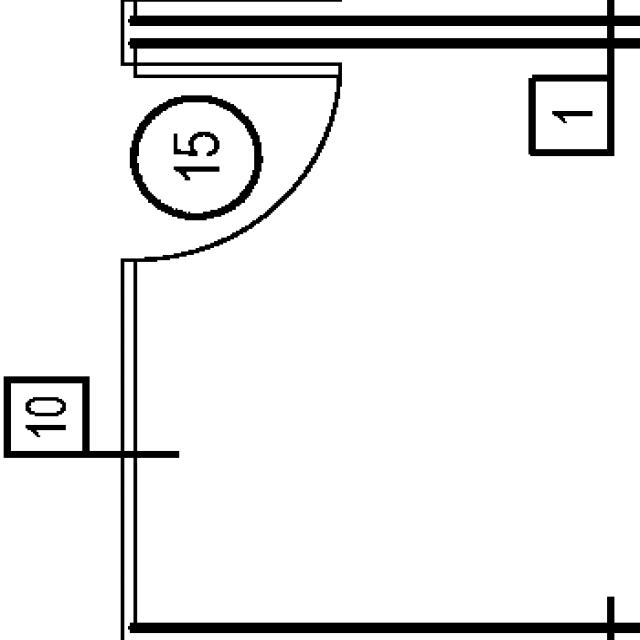Doors: (115, 58, 348, 268)
